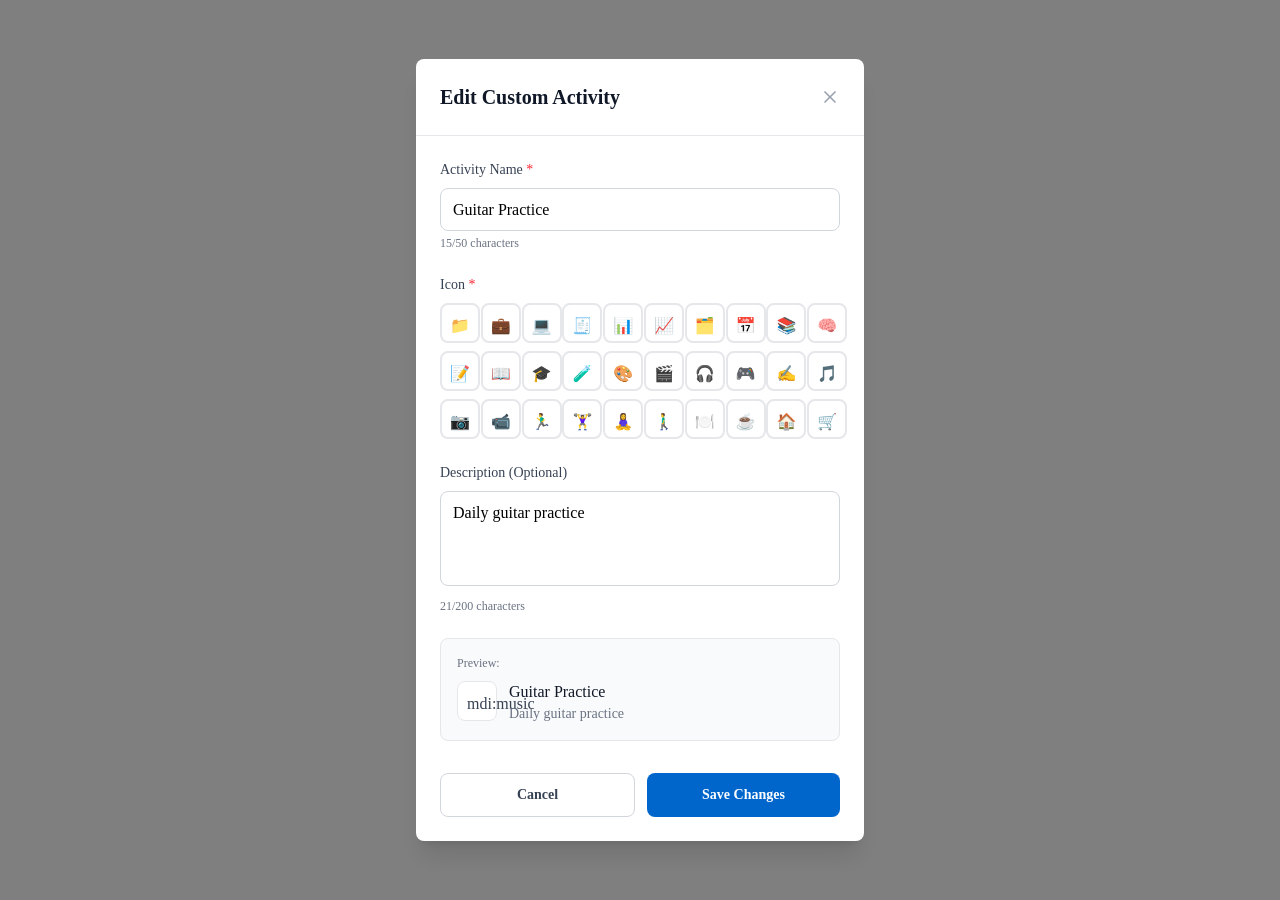
EditCustomActivityModal › Form Submission › should display error message on submission failure
Click the button "Save Changes" at (744, 795), box [647,773,840,817]
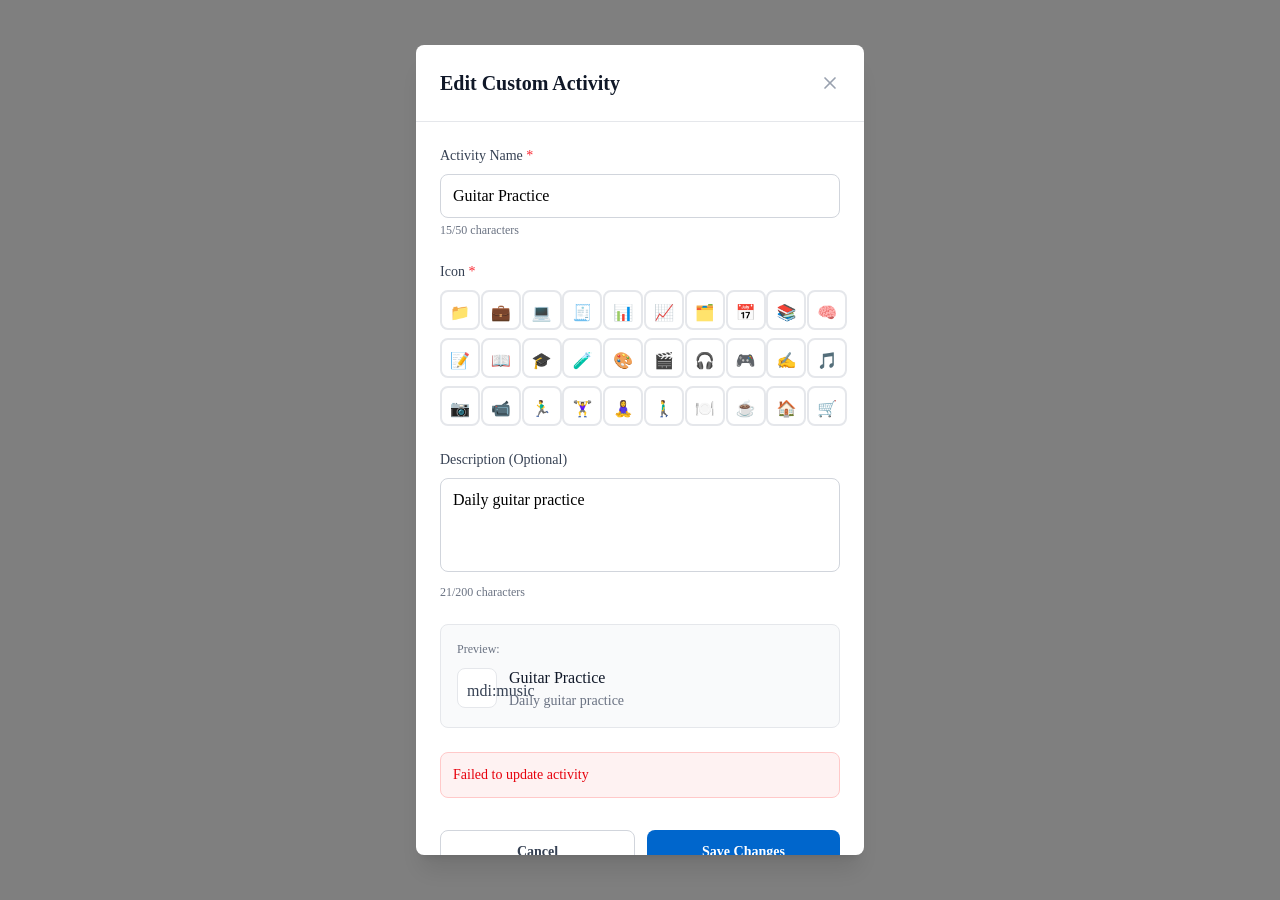
Expected: the text "Failed to update activity" is shown, [453,767,589,782]
